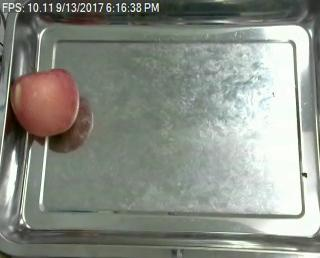apple: (10, 70, 78, 137)
